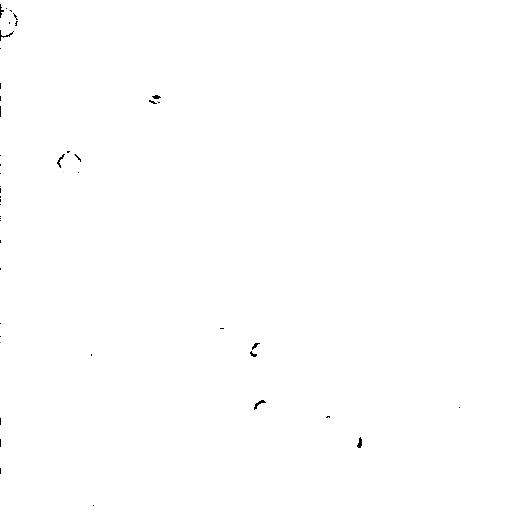micro-algae: (313, 217, 411, 319), (33, 269, 97, 328), (45, 354, 106, 409), (180, 101, 235, 159), (1, 423, 37, 467), (243, 335, 273, 366), (56, 148, 82, 180), (346, 423, 372, 453), (1, 2, 19, 37), (252, 397, 273, 418), (2, 87, 11, 111)
